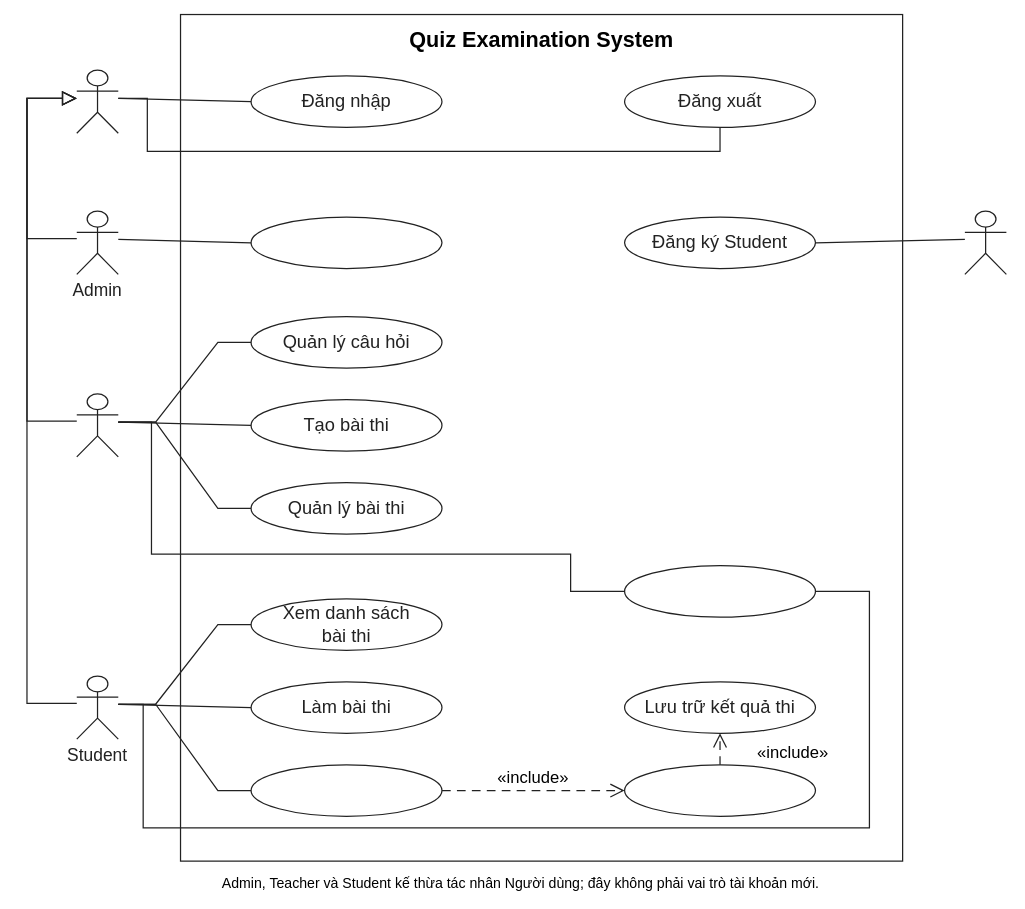
The diagram is 1025 pixels wide and 909 high, and some of its shapes have lost their labels. Here are the shapes that lost their labels. From the top down, the centre of each, then its label:
At (x=97, y=101): "Người dùng".
At (x=346, y=242): "Quản lý tài khoản".
At (x=985, y=242): "Khách".
At (x=97, y=425): "Teacher".
At (x=720, y=591): "Xem kết quả thi".
At (x=346, y=790): "Nộp bài thi".
At (x=720, y=790): "Chấm điểm tự động".
